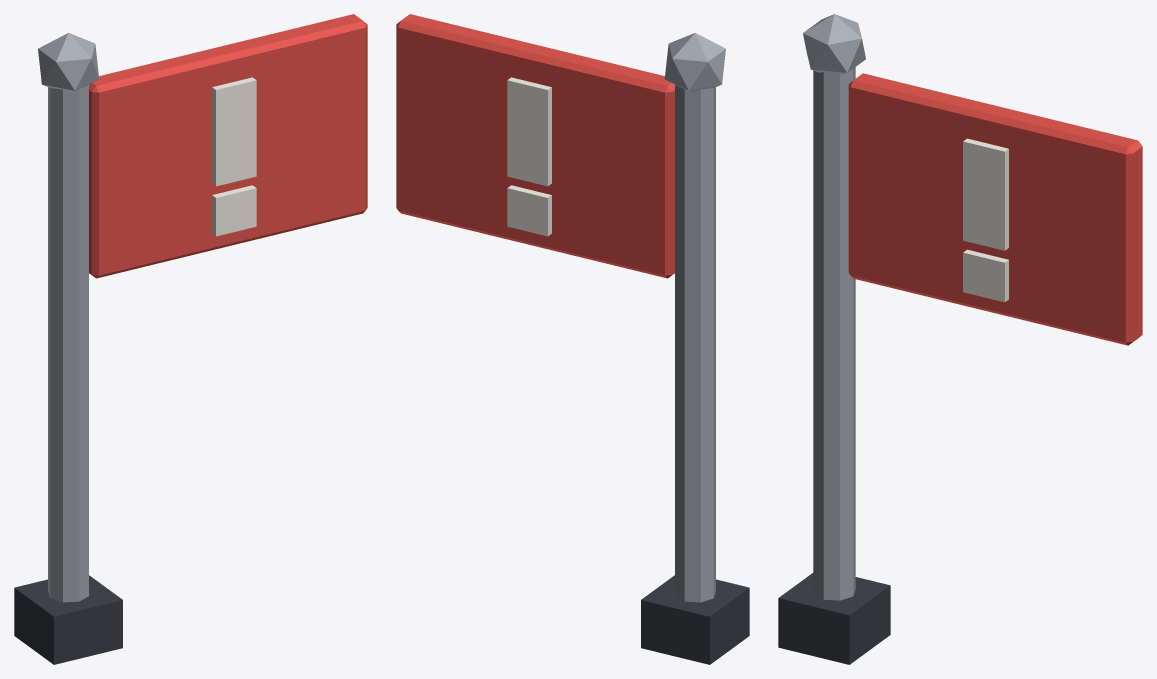
The model's file is replyall_m0_1.glb.
3 renders of one model, left to right at view 1: azimuth 30°, elevation 25°; view 2: azimuth 150°, elevation 25°; view 3: azimuth 330°, elevation 25°, orthographic. The views are drawn at different scales.
Visible parts, largest first — view 1: replyall_m0_1_mesh; view 2: replyall_m0_1_mesh; view 3: replyall_m0_1_mesh.
Part boxes in pixels (x1,y1,x2,y2): replyall_m0_1_mesh: [14, 14, 367, 664]; replyall_m0_1_mesh: [396, 14, 749, 664]; replyall_m0_1_mesh: [778, 14, 1142, 664].
Bounding box in the file's own units: 0.286 × 0.506 × 0.06.
